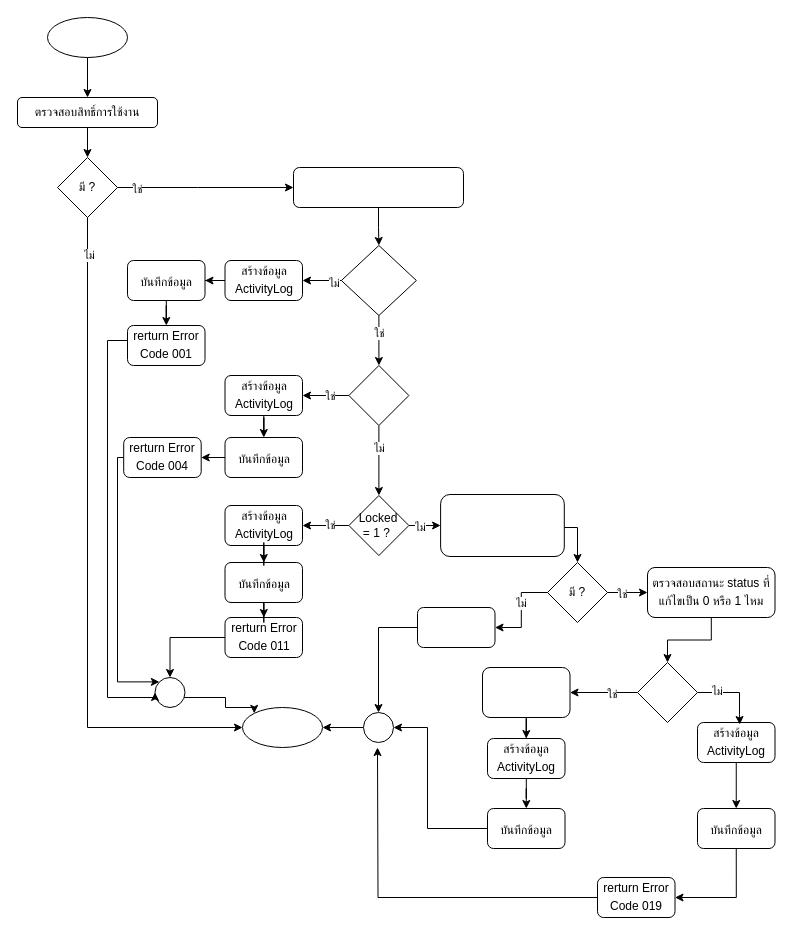
Image size: 793x935. Some labels were removed from this diagram. Each missing label, with the centre of its shape:
"rerturn Error Code 30" belongs at pixel 455 627.
"status = 1 ?" belongs at pixel 378 395.
"ตรวจสอบ Account สถานะการใช้งาน" belongs at pixel 378 187.
"ตรวจสอบว่า auditCompanyCode มีในฐานข้อมูลไหม" belongs at pixel 502 525.
"มีใน ระบบ ?" belongs at pixel 378 280.
"สิ้นสุด" belongs at pixel 282 727.
"เริ่ม" belongs at pixel 87 37.
"แก้ไขข้อมูลบริษัทผู้ตรวจสอบบัญชี" belongs at pixel 526 692.
"ใช่?" belongs at pixel 667 692.
